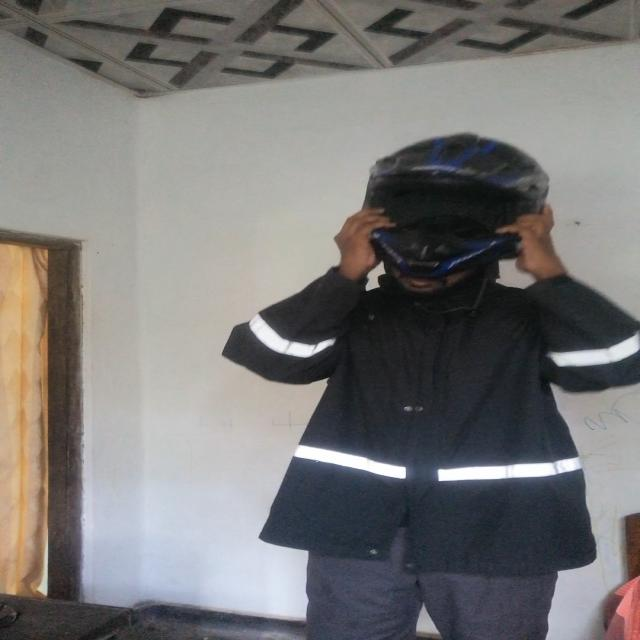Helmet_Wearer: (304, 129, 551, 295)
Jacket_Wearer: (206, 268, 640, 570)
Person: (215, 134, 640, 640)
